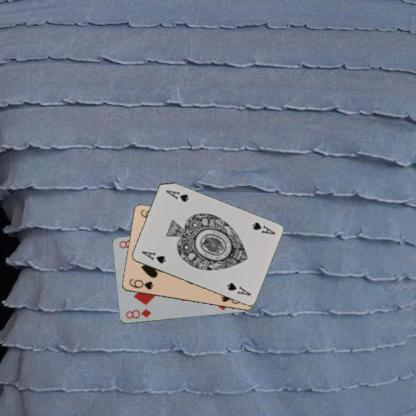6s: (126, 276, 155, 291)
8d: (123, 307, 153, 320)
As: (139, 248, 167, 264), (250, 219, 276, 236)
